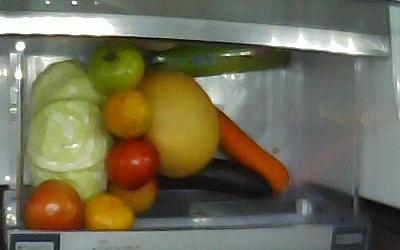cabbage: (29, 59, 110, 207)
carrot: (215, 107, 291, 192)
eggplant: (147, 155, 275, 199)
pear: (136, 69, 221, 177)
tangerine: (105, 90, 154, 138), (84, 193, 133, 230)
tomato: (22, 181, 83, 231), (91, 43, 144, 92), (105, 139, 157, 188)
zucchini: (142, 46, 291, 78)
